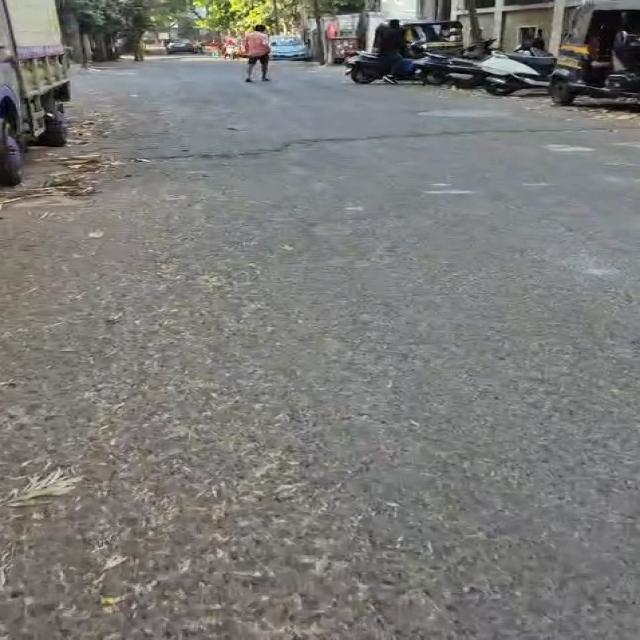obstacle: (57, 0, 84, 63), (312, 0, 326, 64), (466, 0, 482, 43), (274, 0, 279, 34)
person: (374, 19, 407, 83), (244, 25, 270, 82), (531, 29, 546, 51)
pothole: (418, 110, 511, 118)
vehical: (478, 48, 555, 95), (421, 40, 495, 88), (345, 52, 389, 84)
